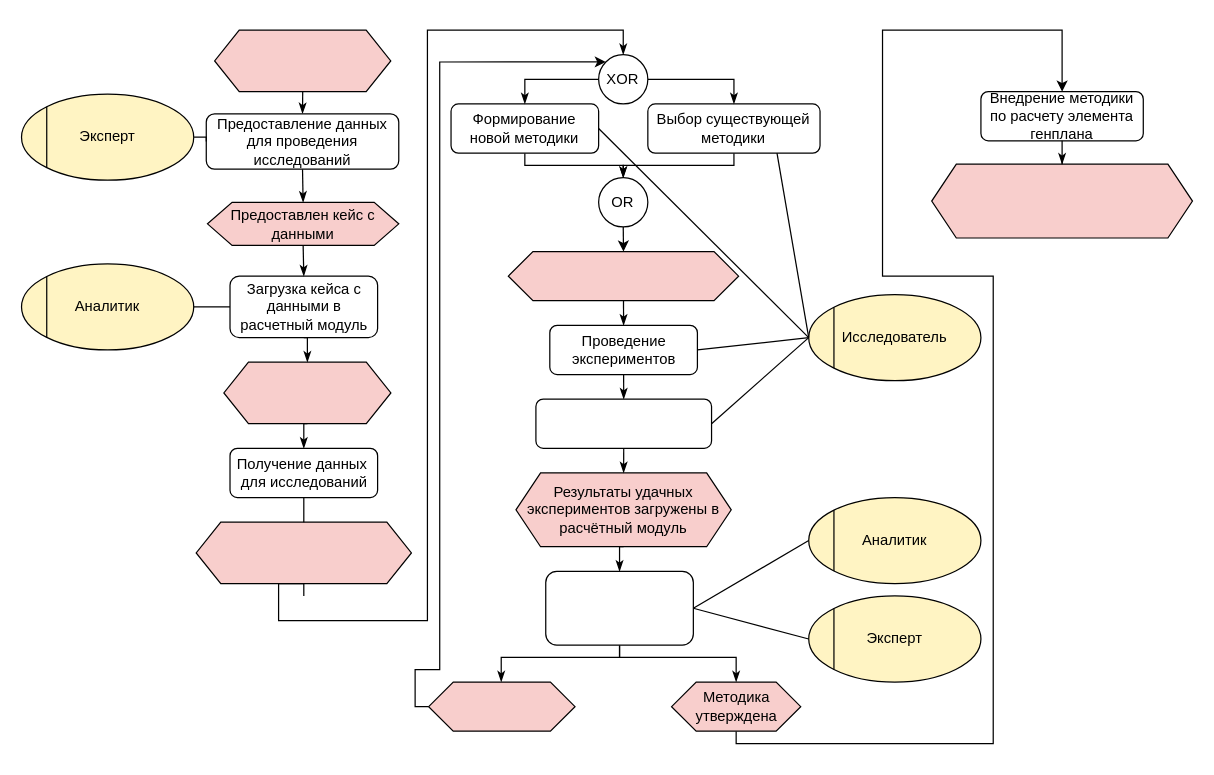
Some shapes in this 1214 by 775 pixel diagram are drawn without their labels. The shapes that lost their labels are listed below. From the top down, each one's centre as x and y in pixels, then its label:
(302,60): Сформированы требования к элементу генплана
(1061,200): Возможность расчета элемента генплана с заданными требованиями
(623,275): Выбрана методика для проведения исследований
(307,392): Кейс с данными доступен в расчётном модуле
(623,423): Загрузка результатов удачных экспериментов
(303,552): Получены данные для исследований в необходимом формате
(619,607): Утверждение применения методики
(501,706): Методика не утверждена
